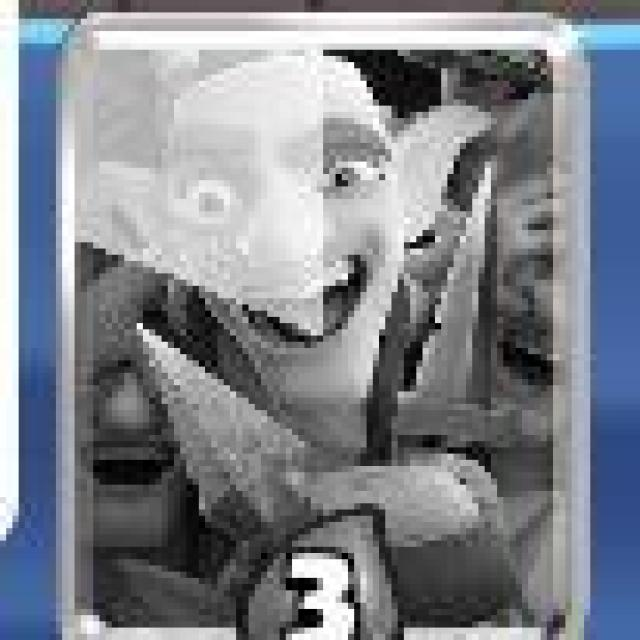Goblin_Gang: (51, 9, 594, 640)
